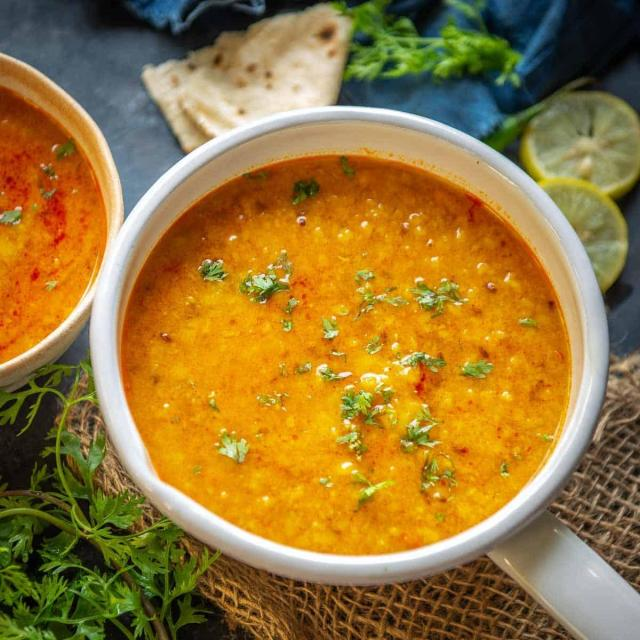dal: (132, 158, 572, 553), (0, 84, 101, 364)
roti: (141, 4, 350, 153)
